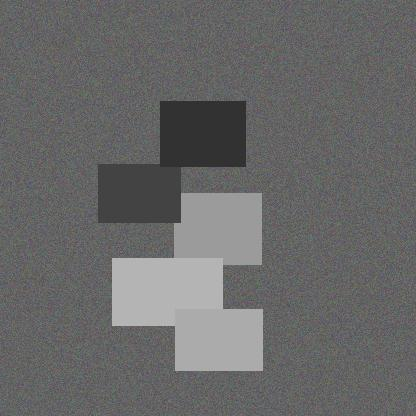empty: (69, 120, 145, 173), (240, 61, 294, 132), (292, 78, 337, 127)
occupied: (253, 183, 317, 257)
